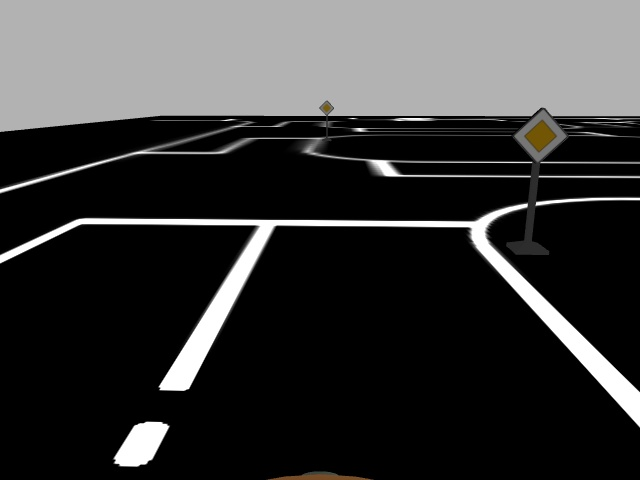priority: (512, 106, 567, 164), (318, 98, 335, 116)
